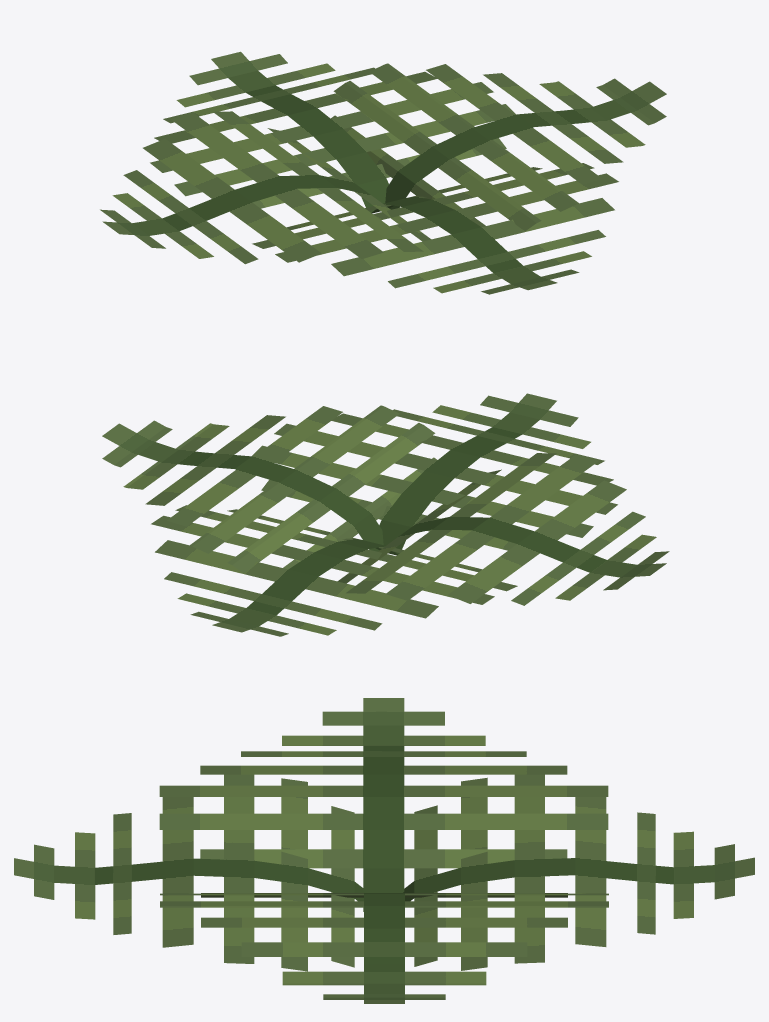
Rendered from Fern.fbx.
3 renders of one model, top to bottom at view 1: azimuth 30°, elevation 25°; view 2: azimuth 150°, elevation 25°; view 3: azimuth 270°, elevation 25°, orthographic. The views are drawn at different scales.
Parts seen in each view (by area): view 1: Fern; view 2: Fern; view 3: Fern.
Boxes of the visible parts, left/top/right/bottom form: Fern: left=100, top=51, right=666, bottom=294; Fern: left=102, top=393, right=669, bottom=636; Fern: left=14, top=698, right=754, bottom=1003.
Size of the model in its own units: 118 by 11.44 by 118.
Materials: 4 (4 with a texture image).
